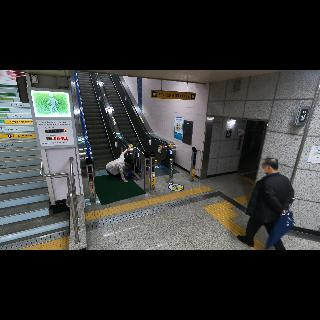anomaly: (104, 148, 134, 185)
normal: (242, 152, 296, 250)
